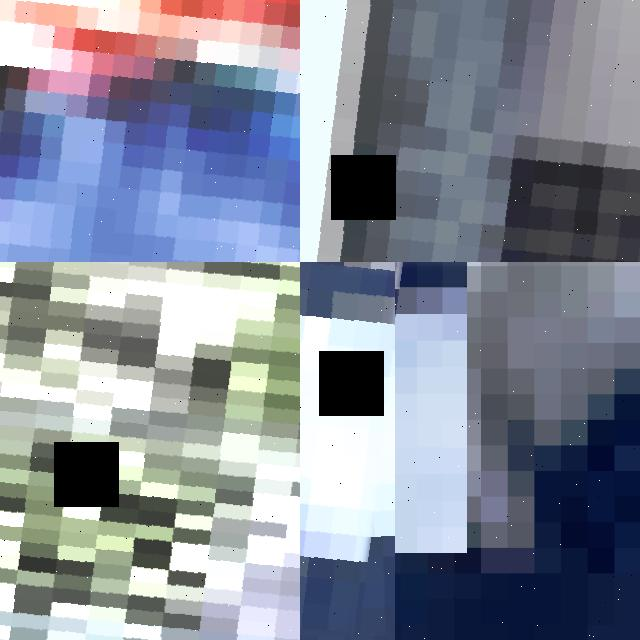arms: (0, 262, 300, 640), (300, 0, 640, 262), (0, 0, 300, 262), (300, 262, 395, 640)
